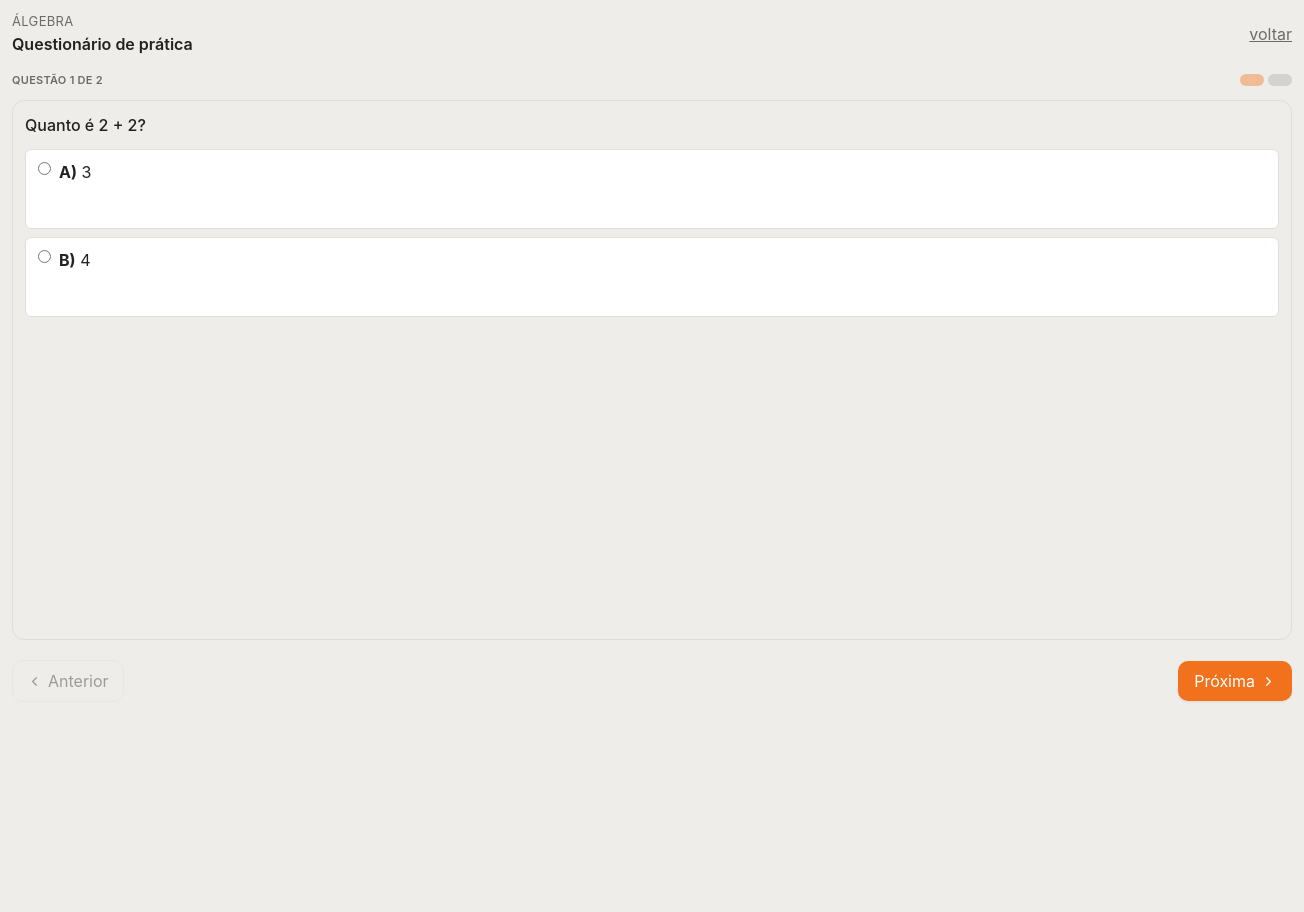
Test: QuizRunner (responder questionário) › navega para frente e para trás com Próxima/Anterior
Expected: the button "Anterior" is disabled, left=12, top=660, right=124, bottom=702
Click the button "Próxima" at (1235, 681), box left=1178, top=661, right=1292, bottom=701
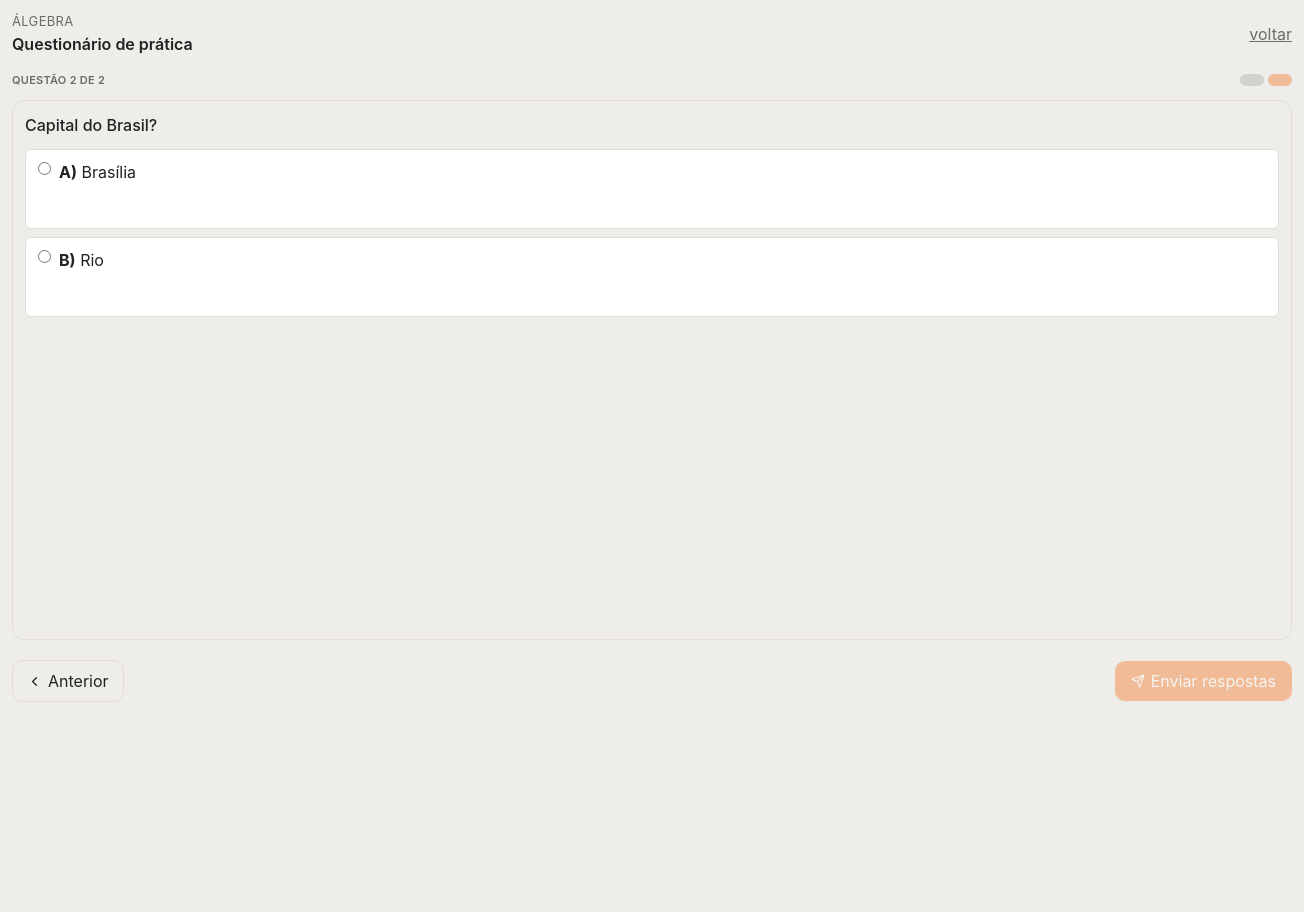
Expected: the text "Capital do Brasil?" is shown, left=25, top=115, right=157, bottom=135
Expected: the text "Quanto é 2 + 2?" is gone
Click the button "Anterior" at (68, 681), box left=12, top=660, right=124, bottom=702
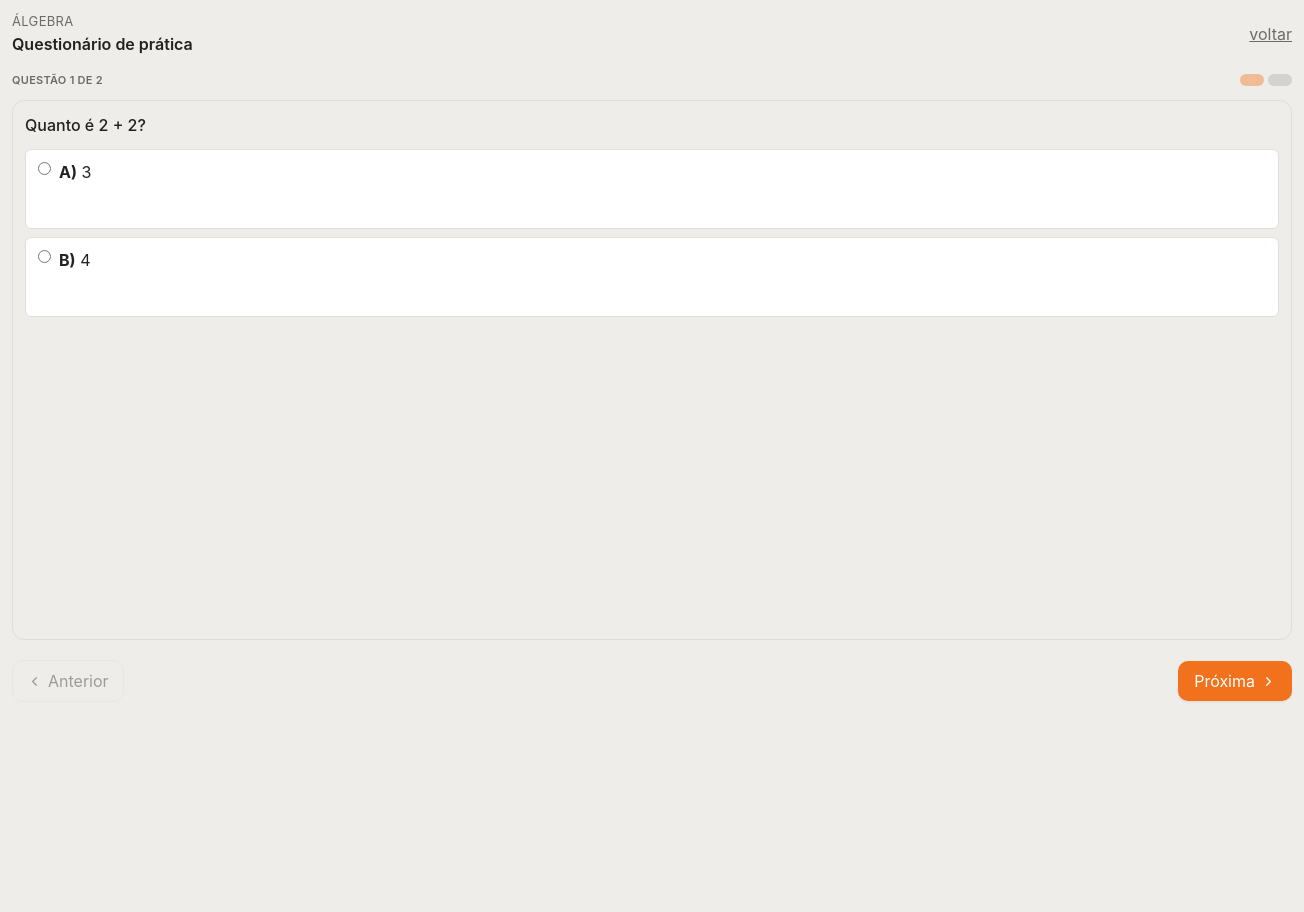
Expected: the text "Quanto é 2 + 2?" is shown, left=25, top=115, right=146, bottom=135
Expected: the button "Anterior" is disabled, left=12, top=660, right=124, bottom=702
